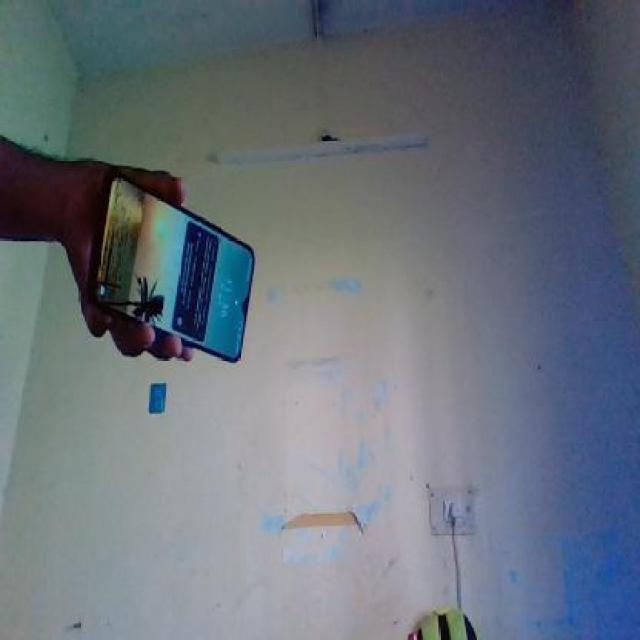Phone: (85, 169, 261, 369)
